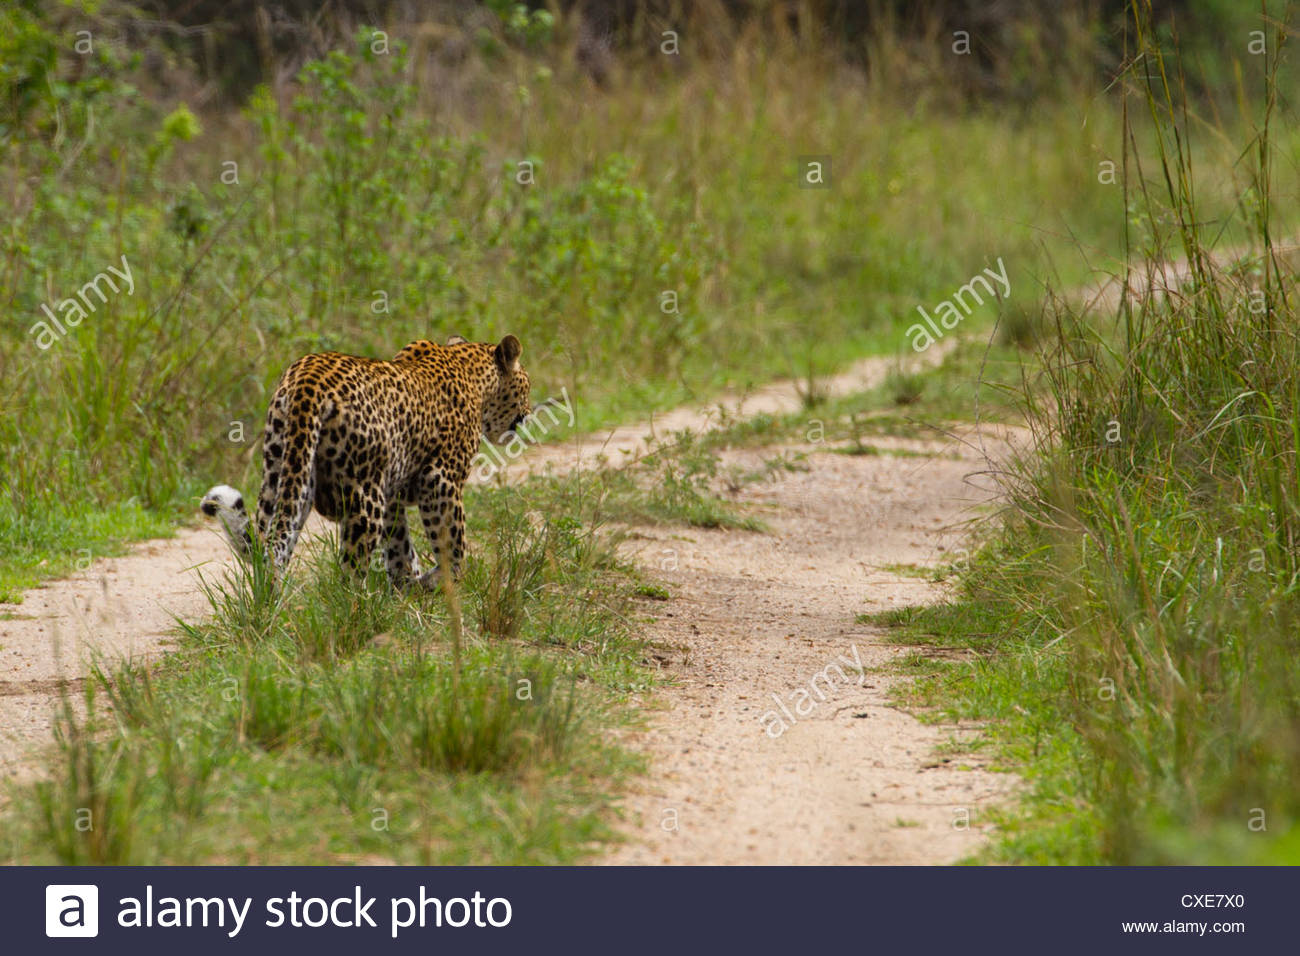Cheetah: (216, 330, 539, 581)
